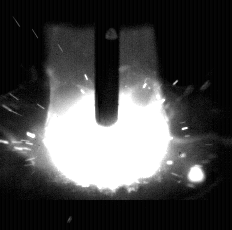arame: (96, 0, 121, 127)
poca: (43, 0, 170, 230)
